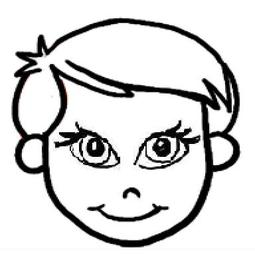ear: (10, 135, 54, 177), (204, 135, 245, 170)
eye: (128, 119, 201, 175), (51, 120, 121, 170)
mouth: (85, 202, 172, 227)
nose: (113, 182, 156, 199)
